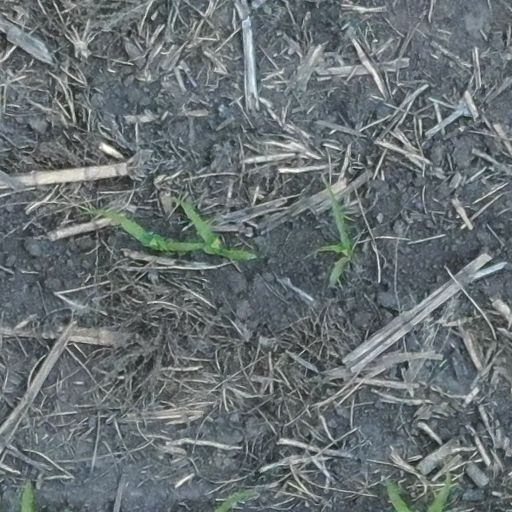planta: (161, 197, 252, 260), (80, 208, 204, 251), (312, 180, 351, 288)
